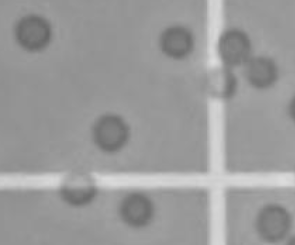cell: (88, 107, 135, 155), (12, 11, 56, 55), (154, 20, 198, 64), (113, 185, 158, 228), (252, 198, 292, 244), (56, 165, 99, 207), (214, 23, 252, 66), (202, 64, 240, 101), (242, 53, 278, 91)
